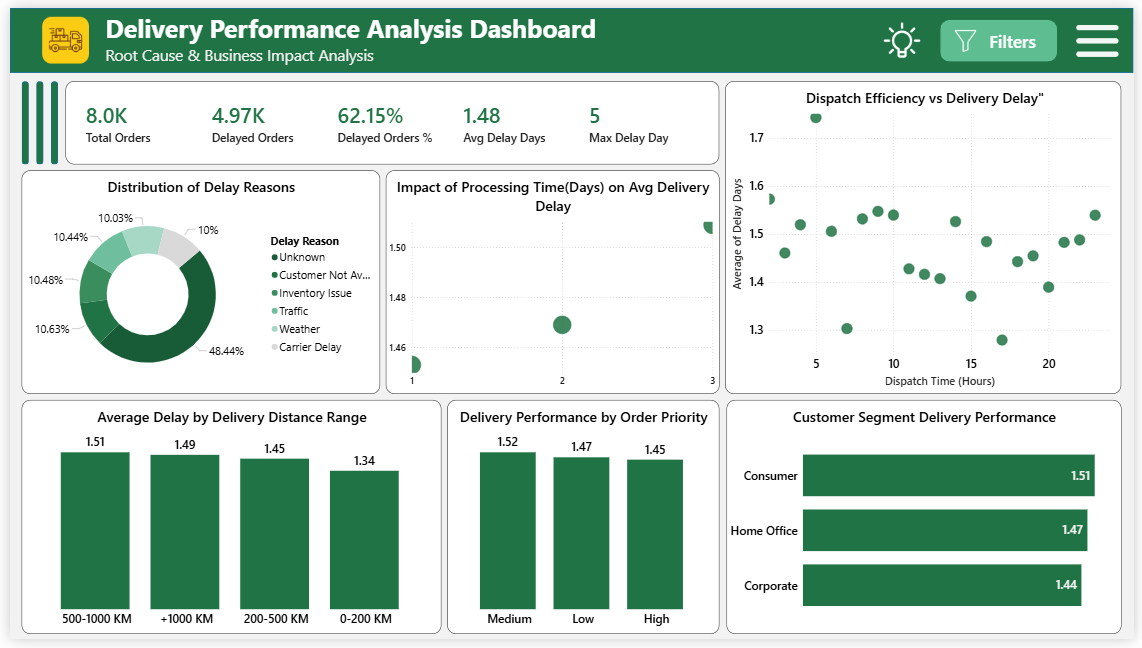

The dashboard page shown, as its layout file describes it:
{"tool":"powerbi","page":{"name":"Root Cause & Business Impact Analysis ","canvas":[1920,1080],"ordinal":1},"visuals":[{"type":"shape","title":"Title Bg Box","box":[0,0,1920,110.9],"z":0},{"type":"shape","box":[1590,20,200,72],"z":0,"group":"g2"},{"type":"shape","box":[20,125,12.1,142.5],"z":0,"group":"g1"},{"type":"textbox","title":"Title Box","box":[150,0,1100,110],"z":1000},{"type":"image","box":[1613.8,38,37.6,38],"z":1000,"group":"g2"},{"type":"shape","box":[46.2,125,12.1,142.5],"z":1000,"group":"g1"},{"type":"image","title":"Logo ","box":[56,16,80,80],"z":2000},{"type":"shape","box":[1669.2,34,105.9,44],"z":2000,"group":"g2"},{"type":"shape","box":[70.4,125,12.1,142.5],"z":2000,"group":"g1"},{"type":"group","id":"g1","title":"KPI near Lines","box":[20,125,62.5,142.5],"z":3000},{"type":"donutChart","title":"Distribution of Delay Reasons","fields":{"Category":["delivery_performance_CLEANED_dataset.Delay Reason"],"Y":["CountNonNull(delivery_performance_CLEANED_dataset.Order ID)"]},"box":[20,277,612.5,382.5],"z":4000},{"type":"scatterChart","title":"Impact of Processing Time(Days) on Avg Delivery Delay","fields":{"Y":["Avg(delivery_performance_CLEANED_dataset.Delay Days)"],"X":["delivery_performance_CLEANED_dataset.Processing Time (Days)"]},"box":[642.5,277.5,570,382.5],"z":5000},{"type":"scatterChart","title":"Dispatch Efficiency vs Delivery Delay\"","fields":{"Y":["Avg(delivery_performance_CLEANED_dataset.Delay Days)"],"X":["delivery_performance_CLEANED_dataset.Dispatch Time (Hours)"]},"box":[1222.5,125,677,535],"z":6000},{"type":"columnChart","title":"Average Delay by Delivery Distance Range","fields":{"Category":["delivery_performance_CLEANED_dataset.Distance Category"],"Y":["Avg(delivery_performance_CLEANED_dataset.Delay Days)"]},"box":[20,670,717.5,400],"z":7000},{"type":"group","id":"g2","title":"Filter Btn Pg2","box":[1590,20,200,72],"z":8000},{"type":"clusteredColumnChart","title":"Delivery Performance by Order Priority","fields":{"Y":["Avg(delivery_performance_CLEANED_dataset.Delay Days)"],"Category":["delivery_performance_CLEANED_dataset.Order Priority"]},"box":[747.5,670,465,400],"z":9000},{"type":"barChart","title":"Customer Segment Delivery Performance","fields":{"Category":["delivery_performance_CLEANED_dataset.Customer Type"],"Y":["Avg(delivery_performance_CLEANED_dataset.Delay Days)"]},"box":[1225,670,675,400],"z":10000},{"type":"cardVisual","fields":{"Data":["Measures_.Total Orders","Measures_.Delayed Orders","Measures_.Delay %","Measures_.Avg Delay Days","Measures_.Max Delay Day"]},"box":[95,125,1117.5,142.5],"z":11000},{"type":"image","box":[1490,20,70,70],"z":13000},{"type":"image","title":"Menu Icon","box":[1822,20,72.5,72.5],"z":14000}]}

Visuals, with their boxes in screenshot pixels (x1, y1, x2, y2), scaled from the page's 1920x1080 canvas onto the 1142x648 screenshot:
"Title Bg Box" shape: box(0, 0, 1141, 67)
shape: box(946, 12, 1065, 55)
shape: box(12, 75, 19, 160)
"Title Box" textbox: box(89, 0, 743, 66)
image: box(960, 23, 982, 46)
shape: box(27, 75, 35, 160)
"Logo " image: box(33, 10, 81, 58)
shape: box(993, 20, 1056, 47)
shape: box(42, 75, 49, 160)
"KPI near Lines" group: box(12, 75, 49, 160)
"Distribution of Delay Reasons" donutChart: box(12, 166, 376, 396)
"Impact of Processing Time(Days) on Avg Delivery Delay" scatterChart: box(382, 166, 721, 396)
"Dispatch Efficiency vs Delivery Delay"" scatterChart: box(727, 75, 1130, 396)
"Average Delay by Delivery Distance Range" columnChart: box(12, 402, 439, 642)
"Filter Btn Pg2" group: box(946, 12, 1065, 55)
"Delivery Performance by Order Priority" clusteredColumnChart: box(445, 402, 721, 642)
"Customer Segment Delivery Performance" barChart: box(729, 402, 1130, 642)
cardVisual - Measures_.Total Orders x Measures_.Delayed Orders: box(57, 75, 721, 160)
image: box(886, 12, 928, 54)
"Menu Icon" image: box(1084, 12, 1127, 56)
